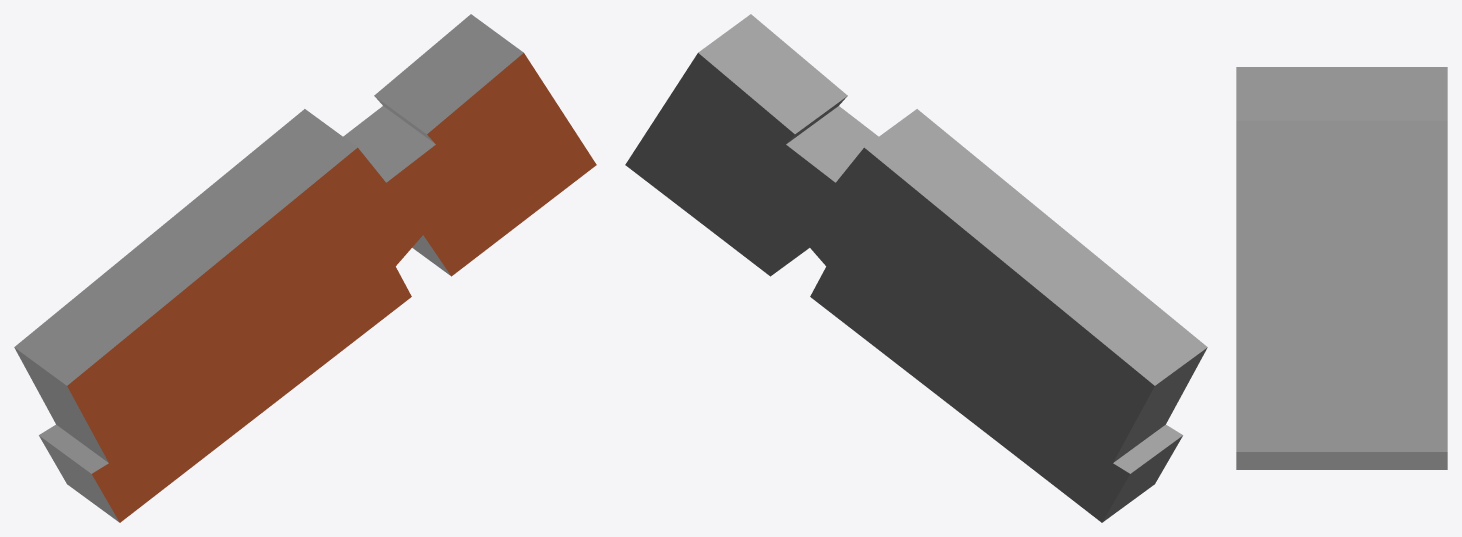
Rendered from construction_4461_assumed_A_Casa_h6m.obj.
The picture shows the model from 3 angles, left to right: view 1: azimuth 30°, elevation 25°; view 2: azimuth 150°, elevation 25°; view 3: azimuth 270°, elevation 25°; orthographic projection. The views are drawn at different scales.
Visible parts, largest first — view 1: construction_4461_assumed_A_Casa; view 2: construction_4461_assumed_A_Casa; view 3: construction_4461_assumed_A_Casa.
Boxes of the visible parts, <box> form: construction_4461_assumed_A_Casa: <box>14,14,596,522</box>; construction_4461_assumed_A_Casa: <box>625,14,1207,522</box>; construction_4461_assumed_A_Casa: <box>1236,67,1447,469</box>.
Size of the model in its own units: 34.69 by 23.26 by 6.
